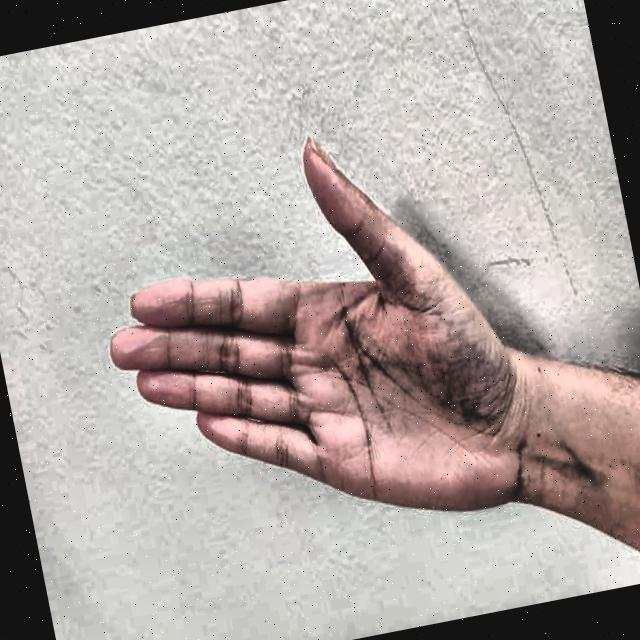Aa: (57, 91, 540, 610)
